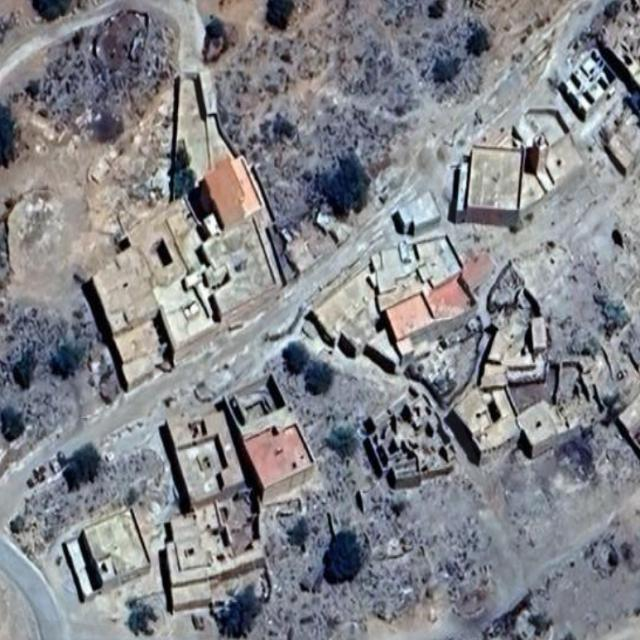Countryside roofs: (163, 227, 298, 333), (154, 488, 272, 607), (370, 378, 463, 517), (362, 252, 472, 359), (244, 397, 329, 503), (453, 142, 540, 244), (150, 409, 241, 499), (59, 506, 159, 586), (542, 39, 618, 136), (70, 256, 159, 330), (192, 151, 262, 241), (460, 381, 524, 469), (502, 405, 582, 462), (388, 189, 444, 239)
